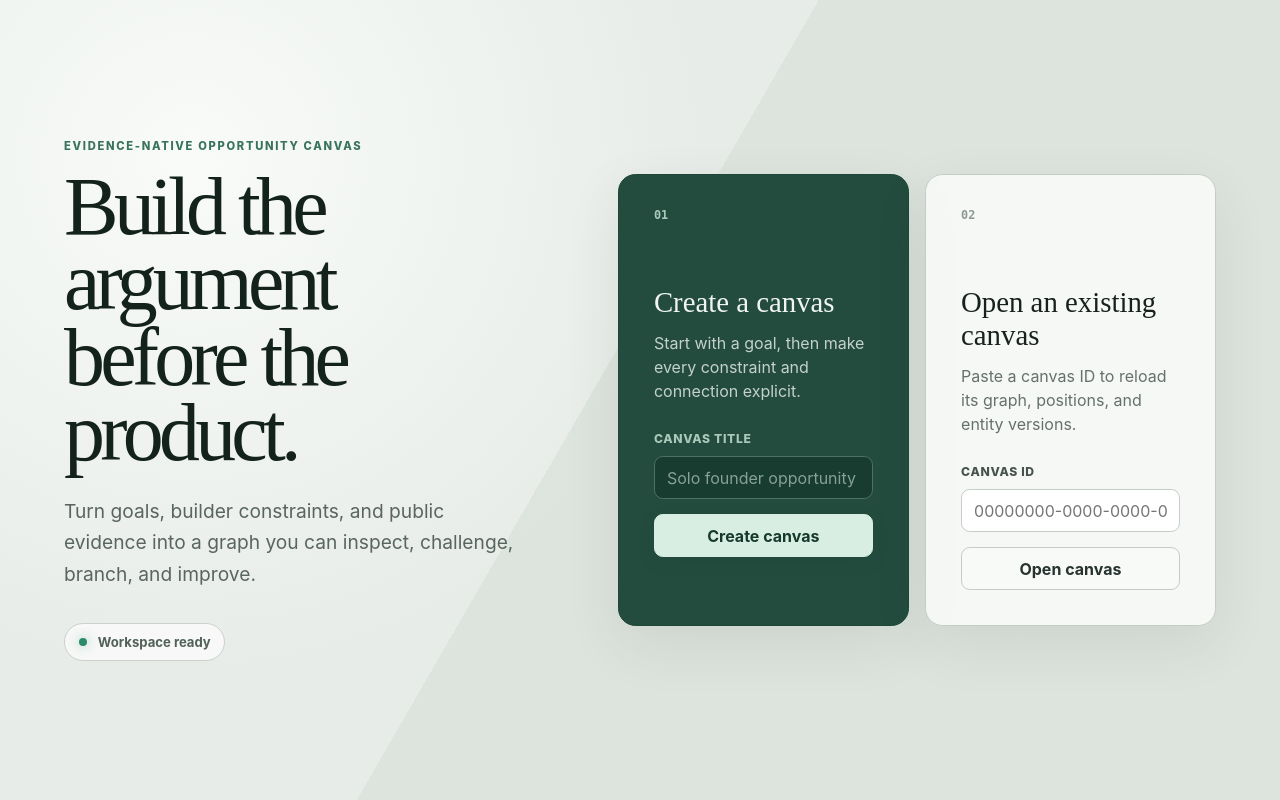
Test case: App › visually labels persisted cached evidence as previously retrieved
This screenshot has width=1280, height=800.
Expected: the text "Workspace ready" is shown, [64, 623, 225, 661]
In the field labelled "Canvas ID": (1070, 511) [961, 489, 1180, 532], type "11111111-1111-4111-8111-111111111111"
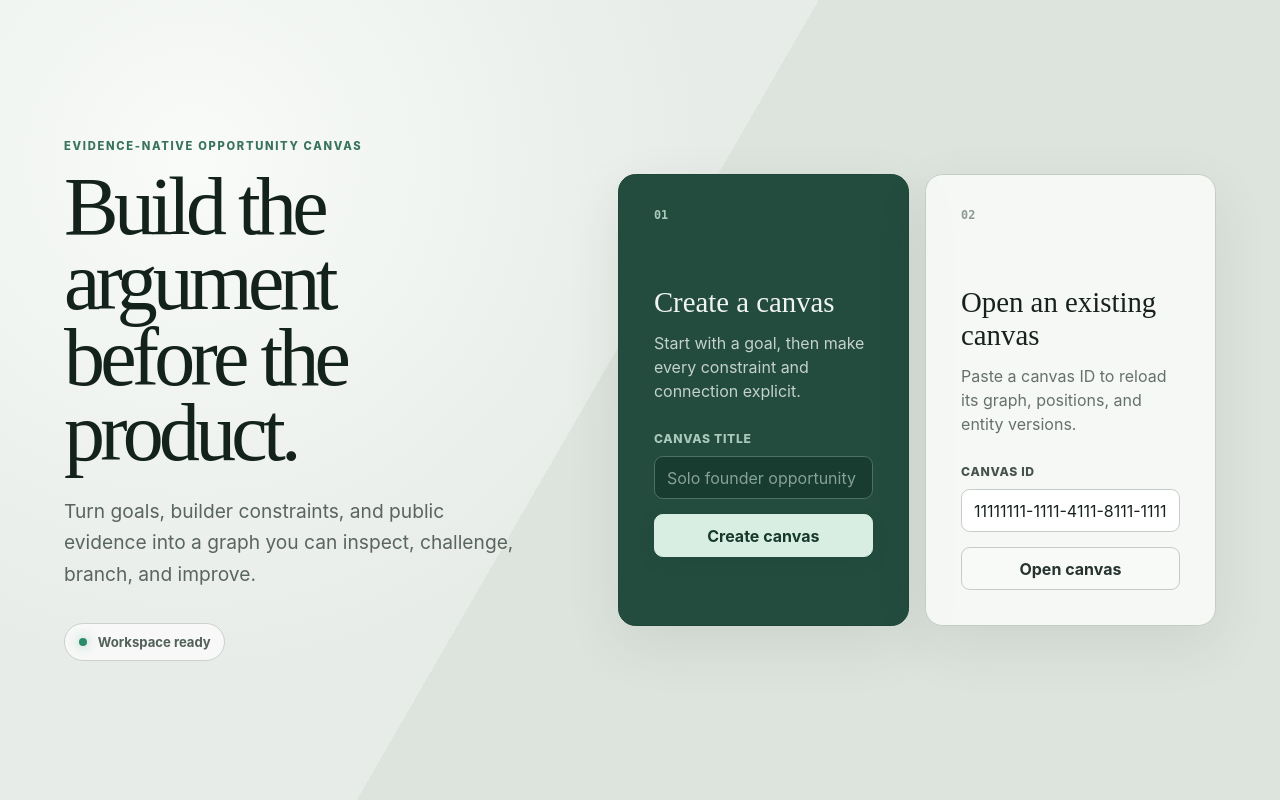
Click the button "Open canvas": (1070, 569) [961, 547, 1180, 590]
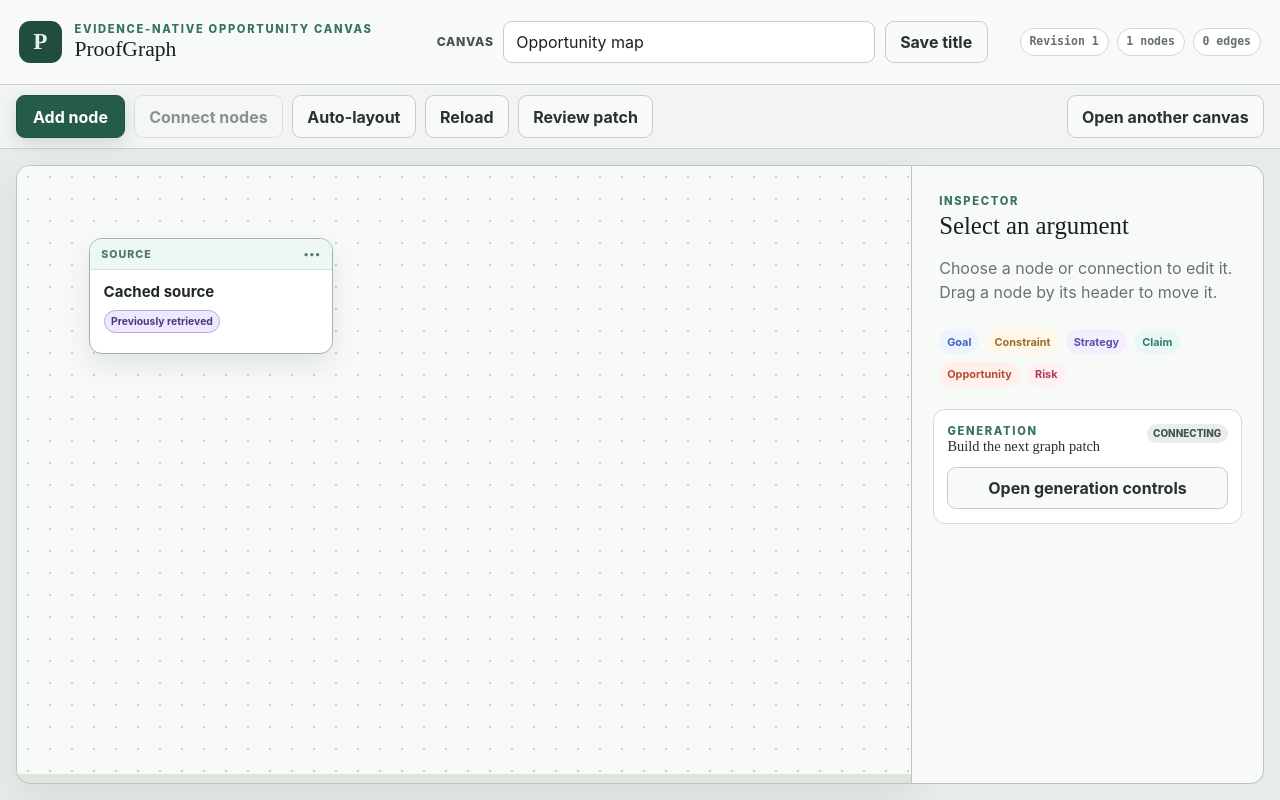
Expected: the field showing "Opportunity map" is shown, [503, 20, 875, 63]
Expected: the text "Previously retrieved" is shown, [104, 310, 220, 333]
